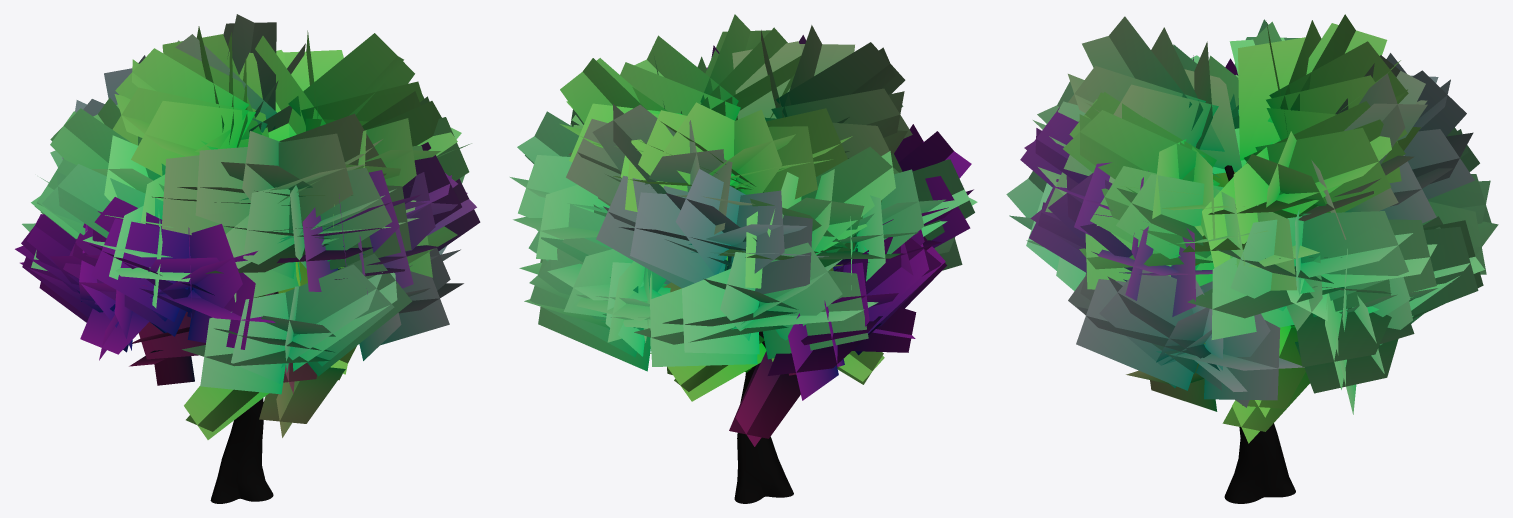
File: Tree_3_1.fbx
3 renders of one model, left to right at view 1: azimuth 30°, elevation 25°; view 2: azimuth 150°, elevation 25°; view 3: azimuth 270°, elevation 25°, orthographic. The views are drawn at different scales.
Visible parts, largest first — view 1: _1; view 2: _1; view 3: _1.
Boxes of the visible parts, box(x1,y1,x2,y2) form: _1: box(15, 14, 480, 503); _1: box(510, 14, 977, 503); _1: box(1006, 14, 1498, 503).
Bounding box in the file's own units: 1781 × 1788 × 1750.
